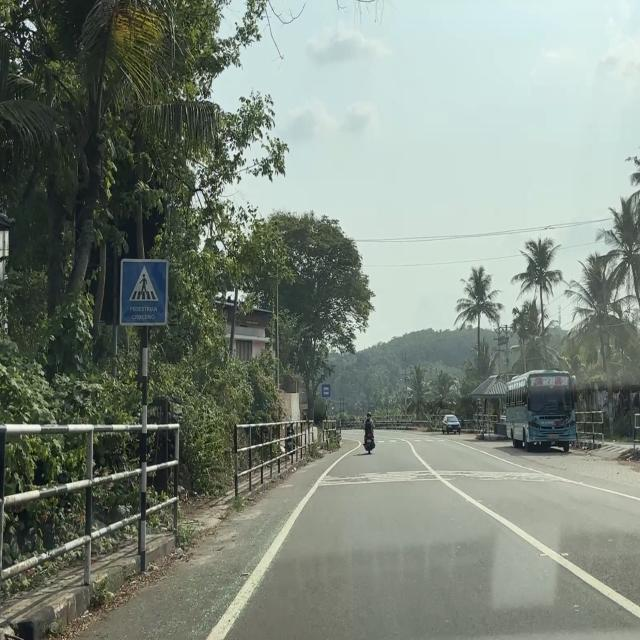PEDESTRIAN_CROSSING: (119, 256, 170, 327)
